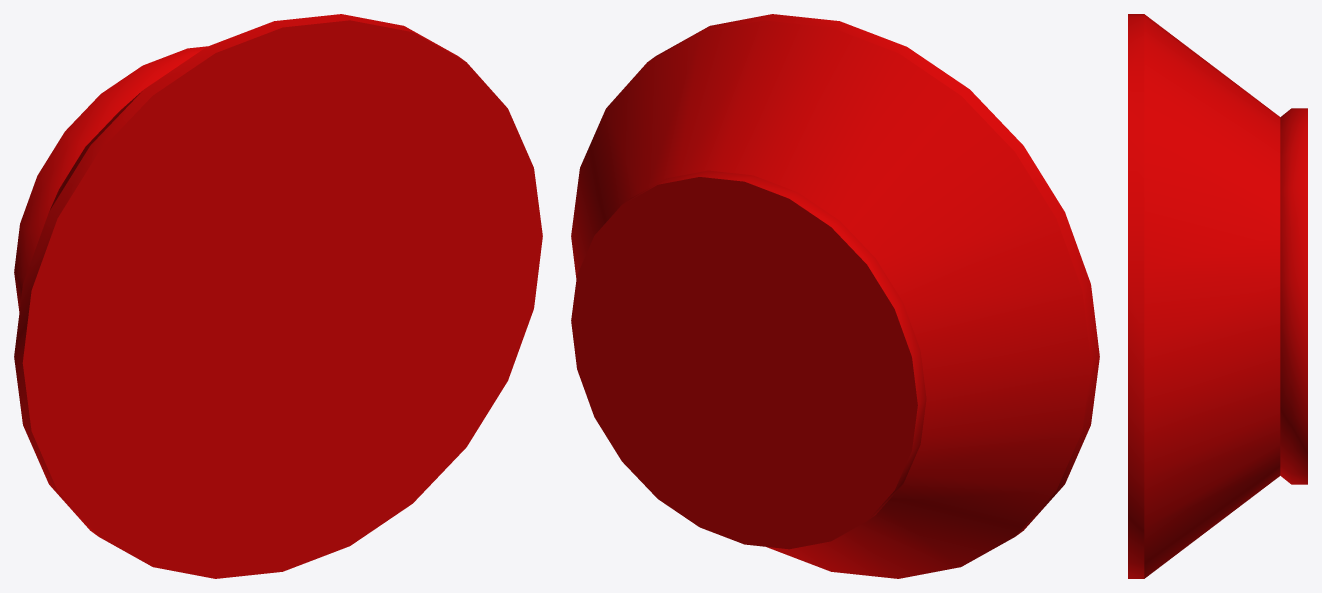
3 renders of one model, left to right at view 1: azimuth 30°, elevation 25°; view 2: azimuth 150°, elevation 25°; view 3: azimuth 270°, elevation 25°, orthographic. The views are drawn at different scales.
Visible parts, largest first — view 1: Mesh; view 2: Mesh; view 3: Mesh.
Boxes of the visible parts, box(x1,y1,x2,y2) form: Mesh: box(14, 14, 542, 578); Mesh: box(571, 14, 1099, 578); Mesh: box(1128, 14, 1307, 578).
Bounding box in the file's own units: 0.6303 × 0.6303 × 0.2.
